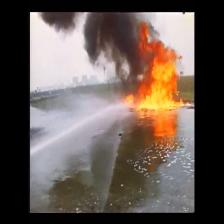fire: (141, 56, 181, 109)
smoke: (89, 16, 133, 52)
